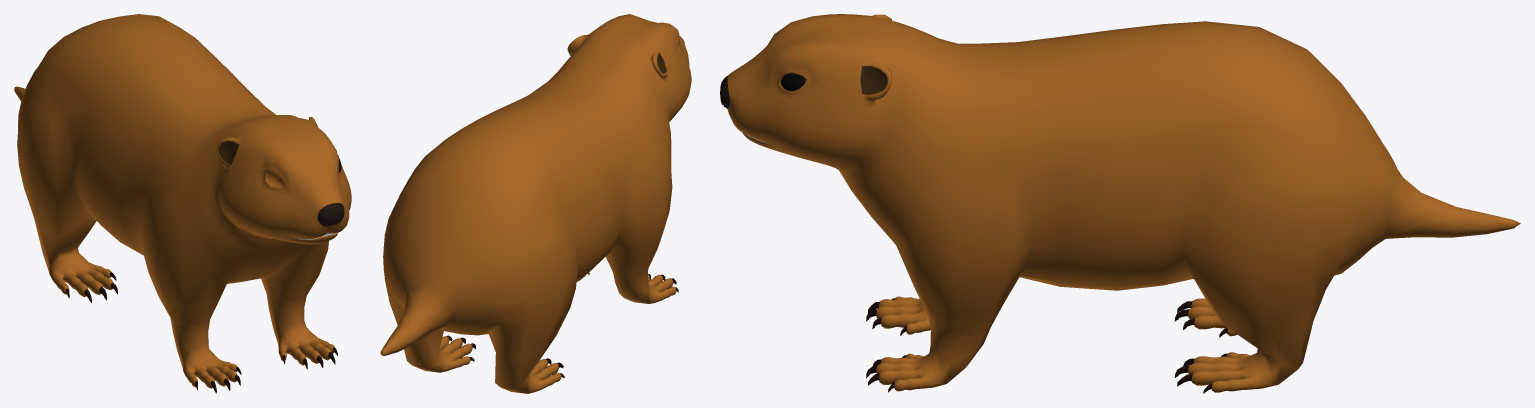
Rendered from praire_dog.obj.
3 renders of one model, left to right at view 1: azimuth 30°, elevation 25°; view 2: azimuth 150°, elevation 25°; view 3: azimuth 270°, elevation 25°, orthographic. The views are drawn at different scales.
Visible parts, largest first — view 1: praire_dog; view 2: praire_dog; view 3: praire_dog.
Boxes of the visible parts, x1=… form: praire_dog: x1=14, y1=14, x2=351, y2=393; praire_dog: x1=380, y1=14, x2=691, y2=393; praire_dog: x1=720, y1=14, x2=1520, y2=393.
Size of the model in its own units: 0.1771 by 0.238 by 0.538.
